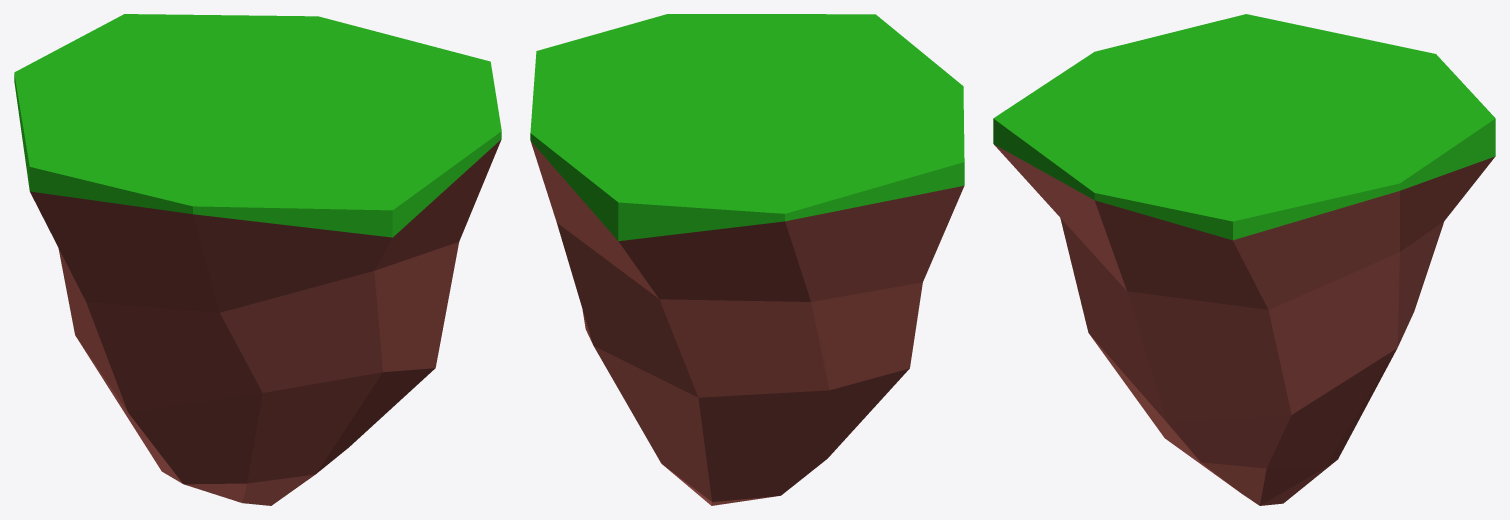
The model's file is floating_island.obj.
3 renders of one model, left to right at view 1: azimuth 30°, elevation 25°; view 2: azimuth 150°, elevation 25°; view 3: azimuth 270°, elevation 25°, orthographic. The views are drawn at different scales.
Visible parts, largest first — view 1: materials_Cylinder; view 2: materials_Cylinder; view 3: materials_Cylinder.
Part boxes in pixels (x1,y1,x2,y2): materials_Cylinder: (14, 14, 501, 505); materials_Cylinder: (530, 14, 964, 505); materials_Cylinder: (993, 14, 1495, 505).
Bounding box in the file's own units: 0.8871 × 0.7545 × 0.9085.
